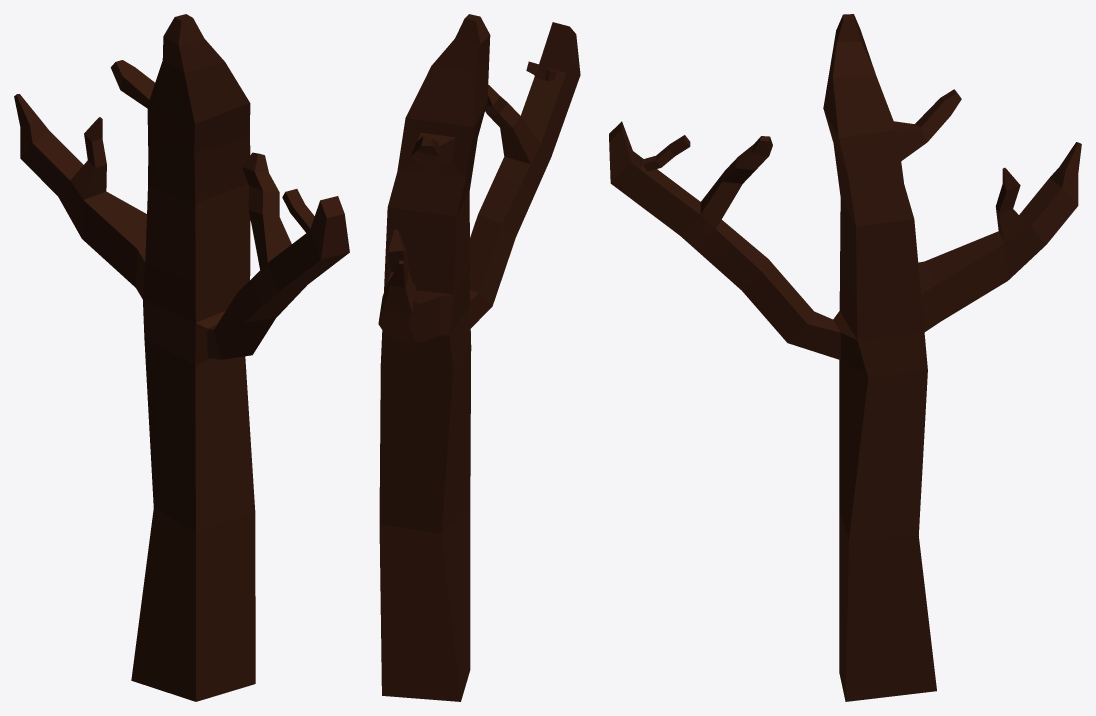
Rendered from deadtreeplain1noelle.obj.
The picture shows the model from 3 angles, left to right: view 1: azimuth 30°, elevation 25°; view 2: azimuth 150°, elevation 25°; view 3: azimuth 270°, elevation 25°; orthographic projection. The views are drawn at different scales.
Visible parts, largest first — view 1: Cube.001; view 2: Cube.001; view 3: Cube.001.
Boxes of the visible parts, bbox=[...] form: Cube.001: bbox=[14, 14, 349, 701]; Cube.001: bbox=[378, 14, 580, 701]; Cube.001: bbox=[609, 14, 1081, 701].
Bounding box in the file's own units: 0.3201 × 1.71 × 1.12.
